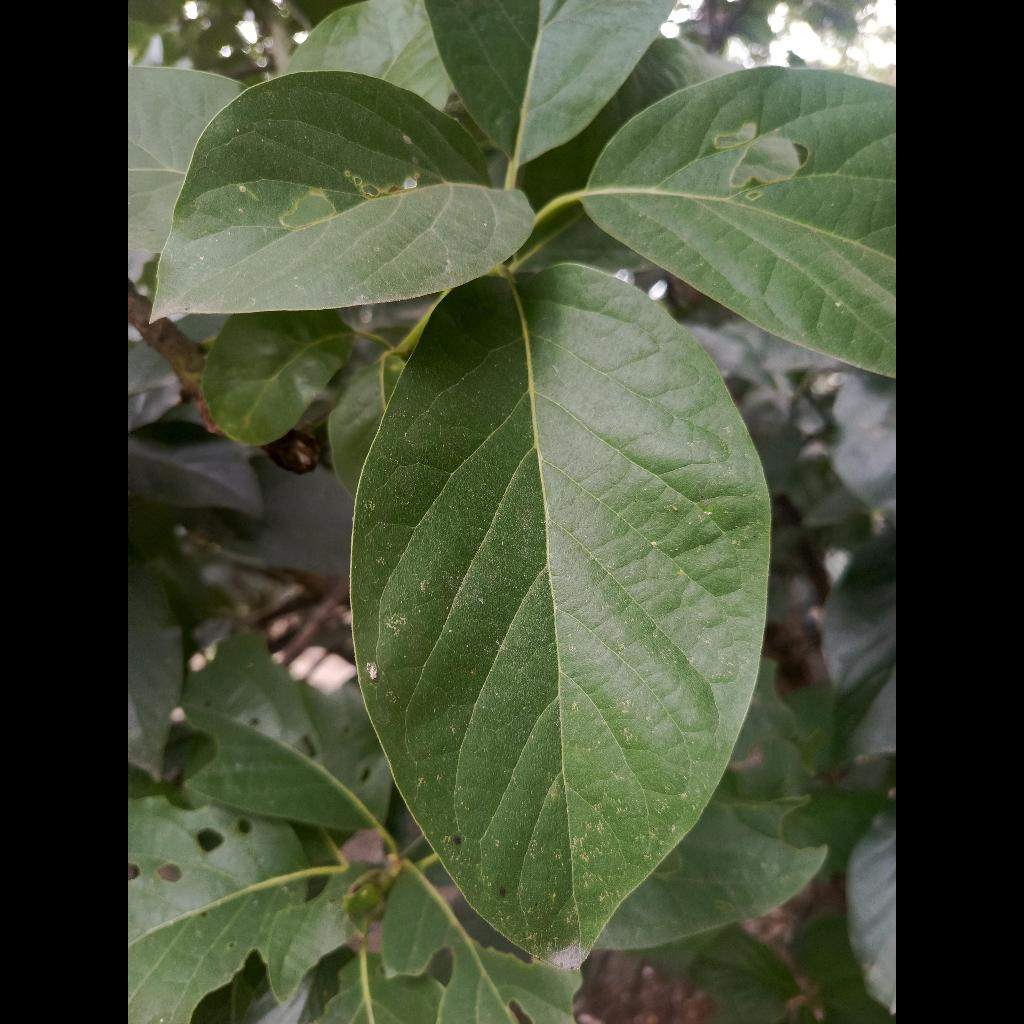Healthy: (352, 265, 768, 968)
